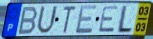B: (16, 6, 39, 36)
E: (74, 5, 98, 35), (97, 5, 120, 33)
L: (115, 5, 134, 35)
T: (61, 5, 78, 35)
U: (35, 5, 59, 36)
